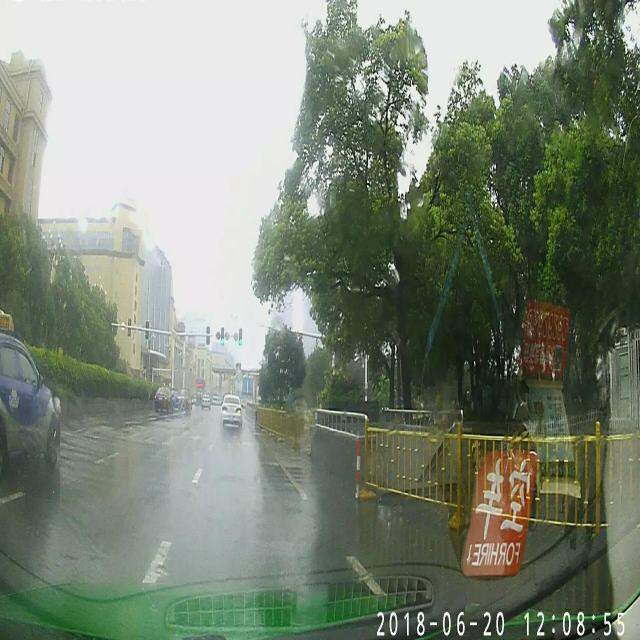car: (1, 316, 62, 465), (220, 392, 243, 424), (152, 384, 173, 413)
